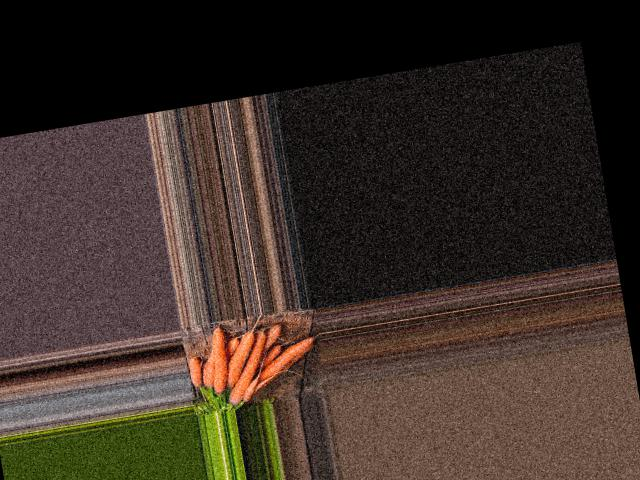carrot: (253, 334, 317, 381)
